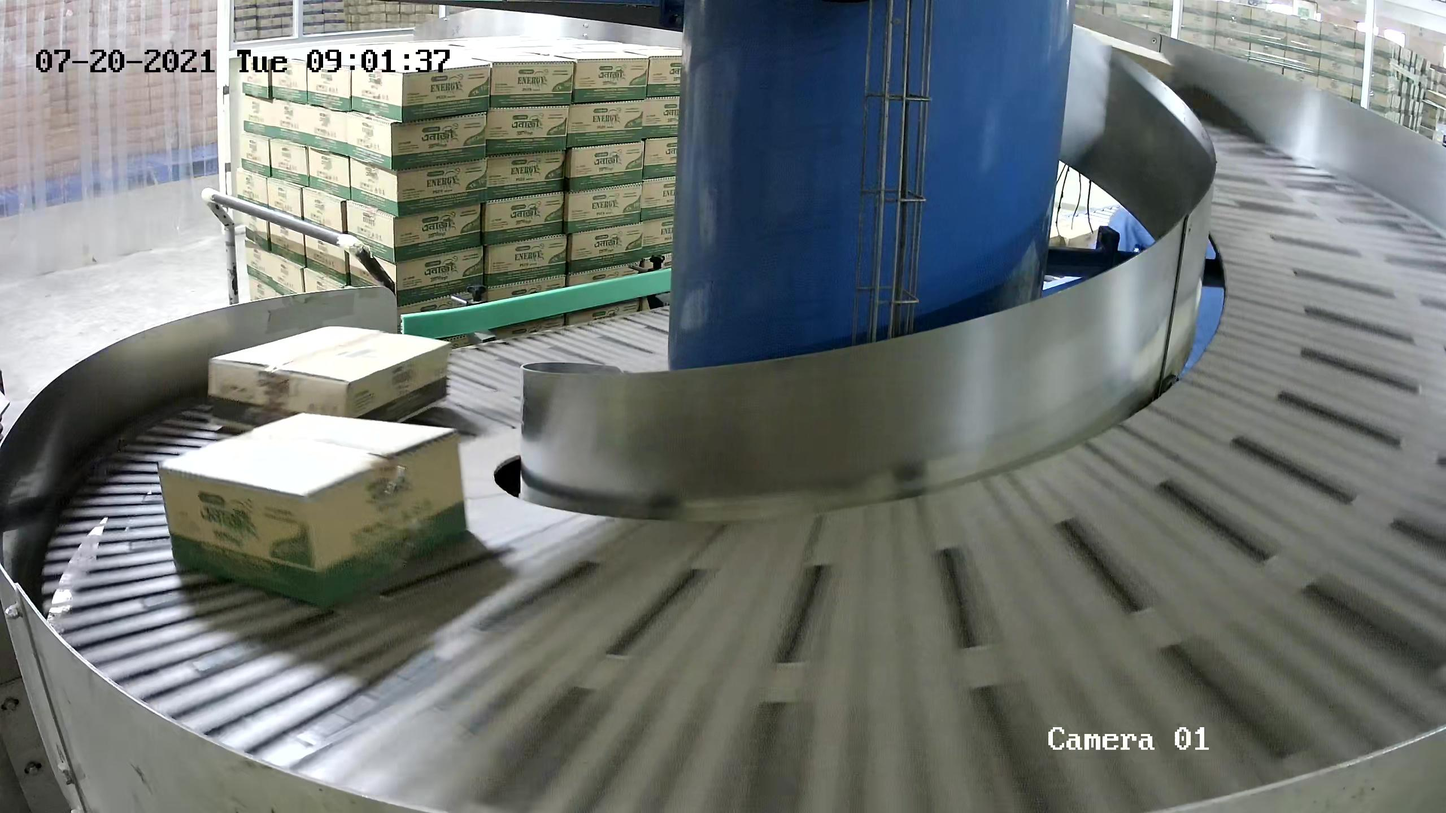Box: (157, 412, 468, 611), (206, 324, 451, 445)
